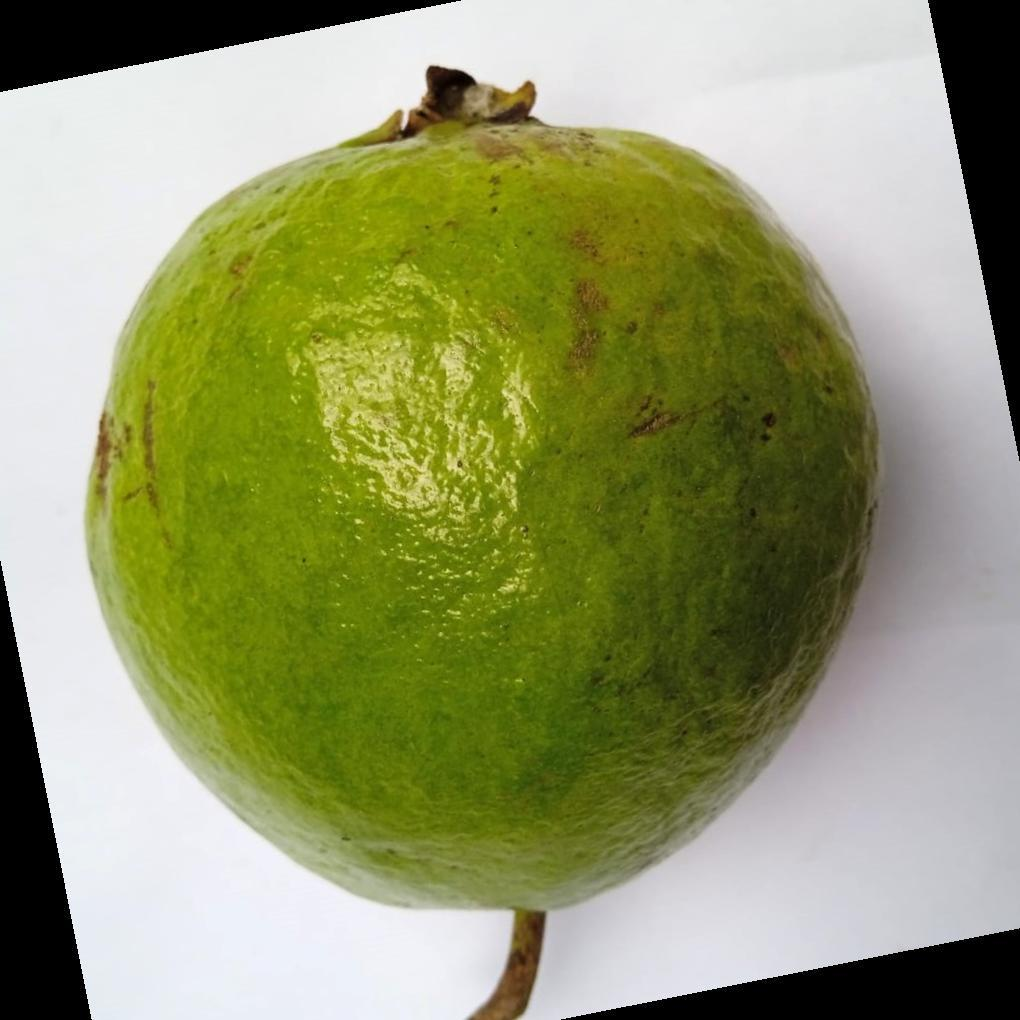FreshGuava: (83, 68, 880, 922)
